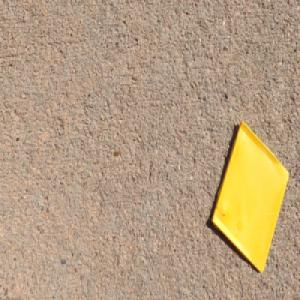PlasticPart: (209, 119, 289, 275)
